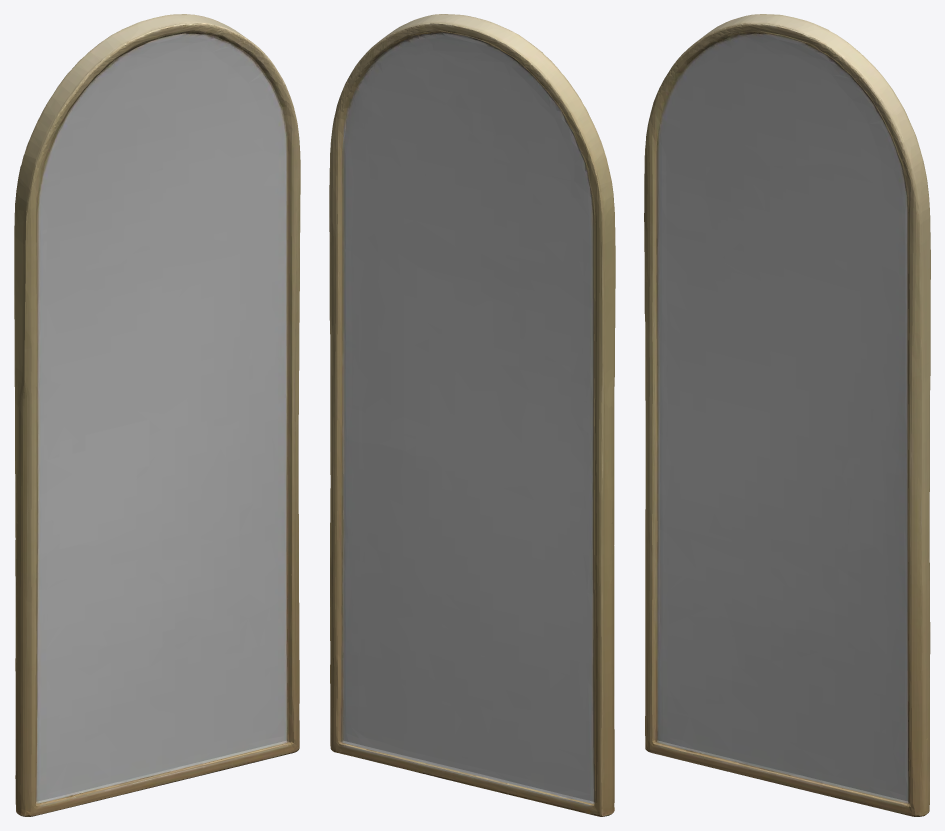
The model's file is mirror.glb.
3 renders of one model, left to right at view 1: azimuth 30°, elevation 25°; view 2: azimuth 150°, elevation 25°; view 3: azimuth 330°, elevation 25°, orthographic.
Visible parts, largest first — view 1: geometry_0; view 2: geometry_0; view 3: geometry_0.
Boxes of the visible parts, x1=… form: geometry_0: x1=14, y1=14, x2=300, y2=816; geometry_0: x1=329, y1=14, x2=615, y2=816; geometry_0: x1=644, y1=14, x2=930, y2=816.
Bounding box in the file's own units: 0.3883 × 1 × 0.0344.
1 material, 1 textured.
